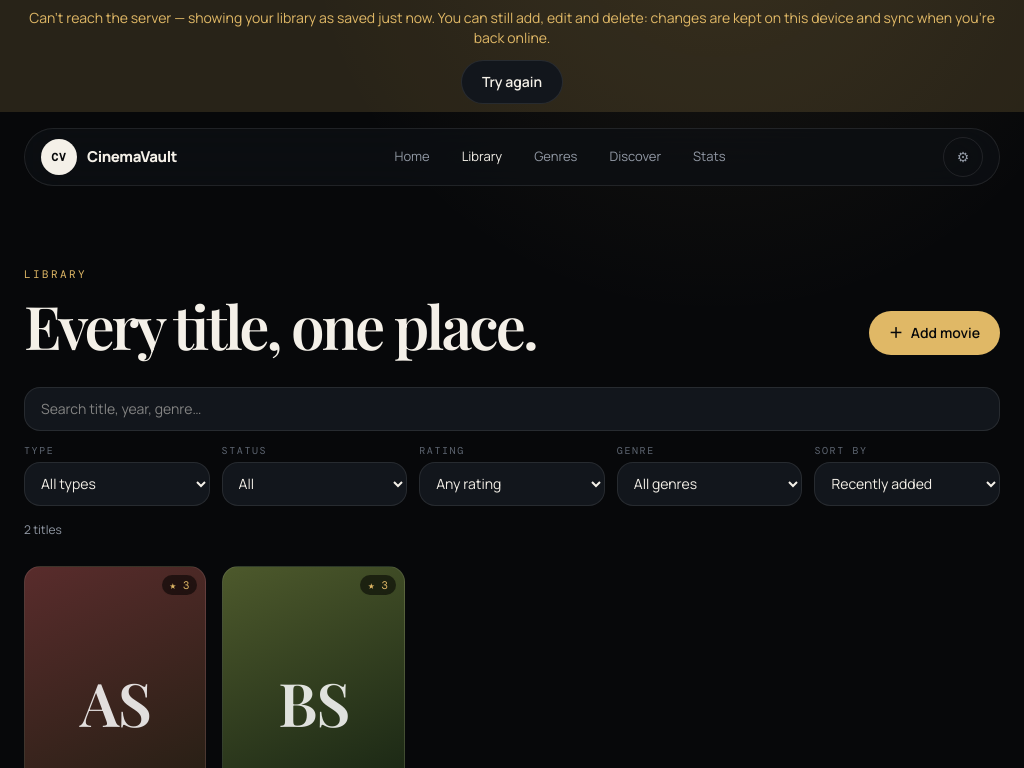
adding a title offline › a duplicate of something already in the library is refused right away, not queued
Click the link "＋ Add movie" at point(934, 332), box x1=869 y1=310 x2=1000 y2=354
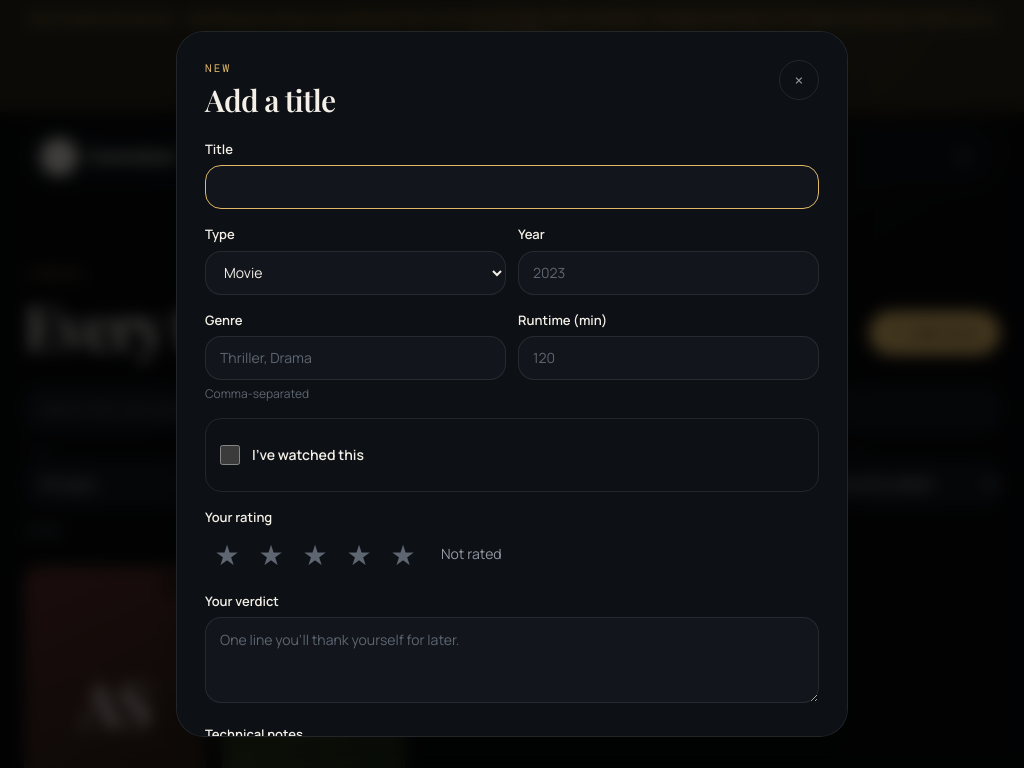
Type "alpha saved" into the field labelled "Title" at point(512, 187), box x1=205 y1=165 x2=819 y2=209
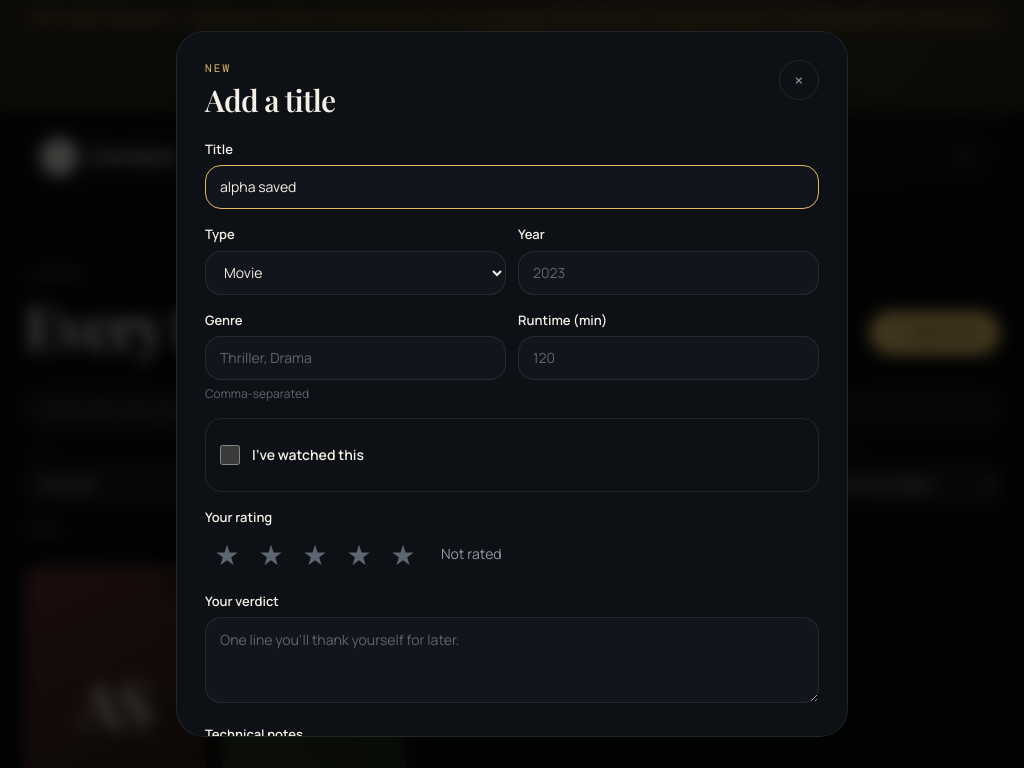
Type "2001" into the number field labelled "Year" at point(668, 273), box x1=518 y1=251 x2=819 y2=295
(page scrolled)
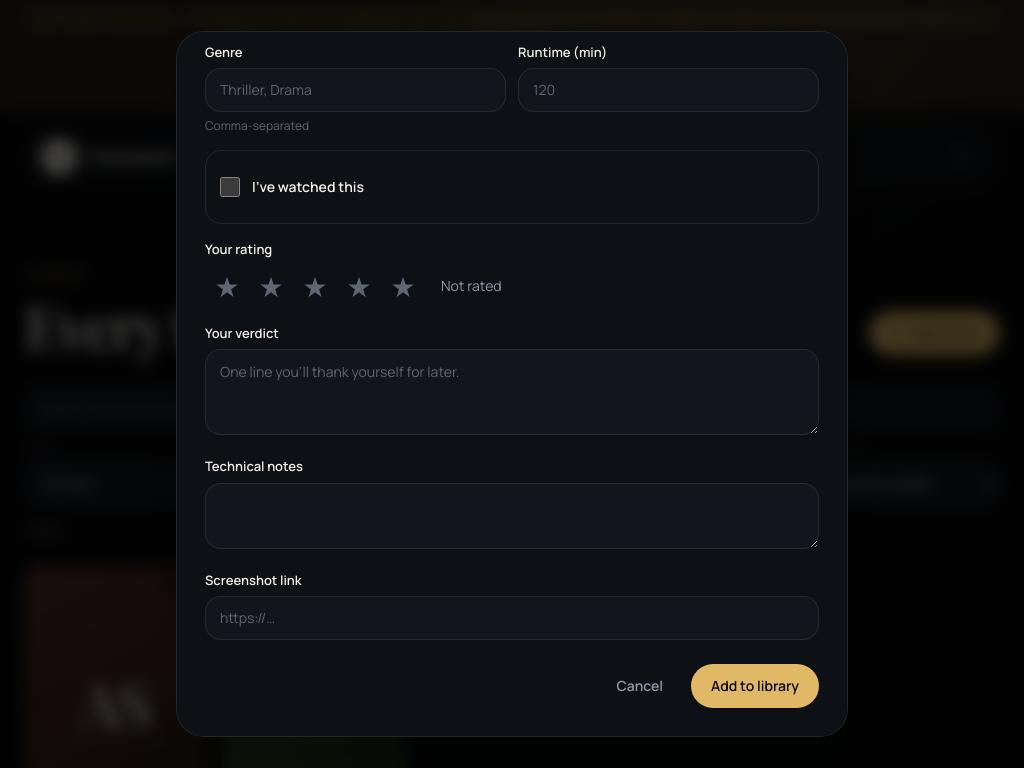
Click the button "Add to library" at point(755, 686), box x1=691 y1=664 x2=819 y2=708
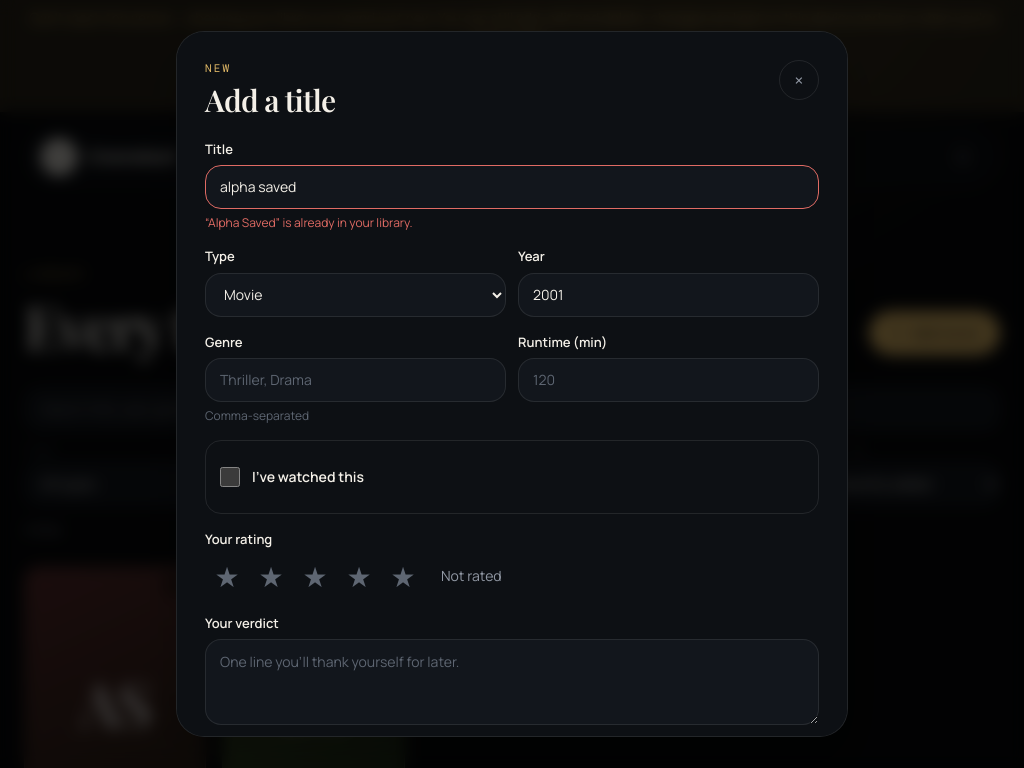
Result: the text "“Alpha Saved” is already in your library." is shown at x1=205 y1=214 x2=412 y2=231
